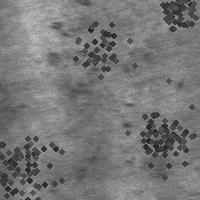rolled-in_scale: (113, 84, 200, 182), (47, 22, 120, 136), (55, 11, 135, 91), (0, 113, 70, 200), (0, 125, 61, 200), (71, 148, 173, 184), (149, 0, 200, 33)
